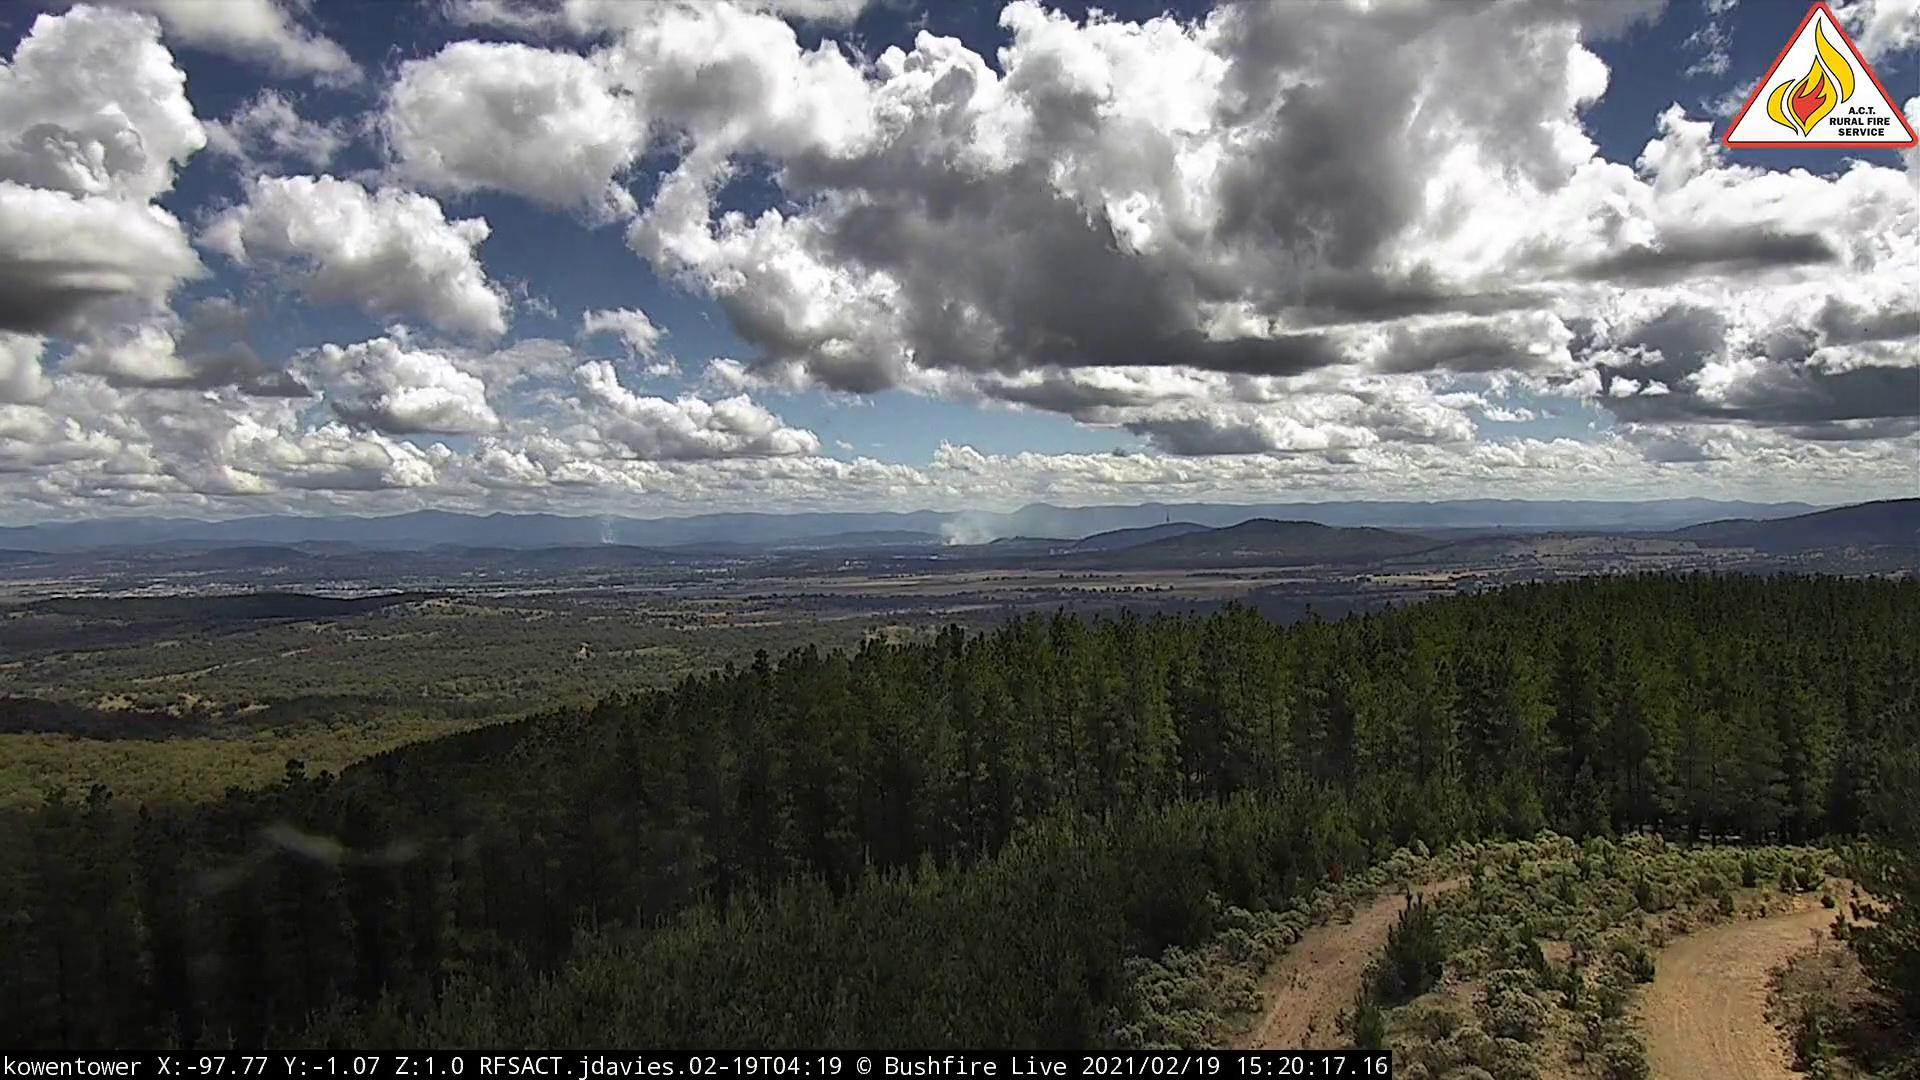Smoke: (928, 501, 1040, 553), (588, 512, 622, 554)
